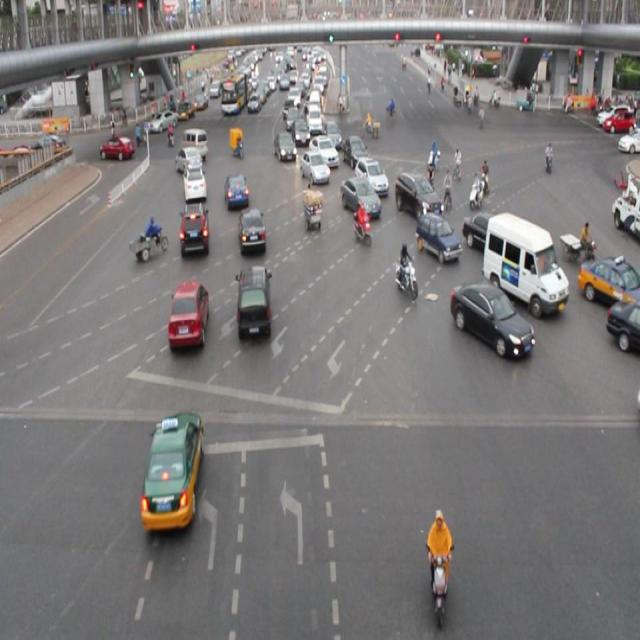car: (140, 411, 203, 531), (448, 281, 532, 358), (576, 254, 640, 312), (168, 281, 207, 351), (460, 210, 516, 258), (235, 264, 270, 340), (415, 211, 461, 261), (394, 170, 440, 220), (605, 298, 640, 355), (339, 175, 380, 217), (180, 202, 210, 257), (352, 156, 387, 194), (238, 207, 266, 253), (308, 133, 339, 168), (298, 150, 328, 184), (343, 134, 372, 168), (223, 173, 249, 210), (99, 134, 134, 161), (183, 164, 207, 202), (175, 147, 202, 177), (274, 129, 296, 161)
truck: (482, 213, 565, 314), (181, 127, 208, 159)
